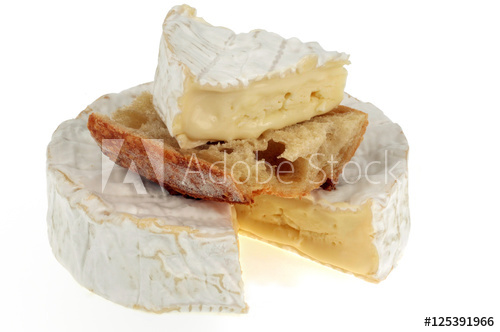camembert: (147, 3, 353, 147)
